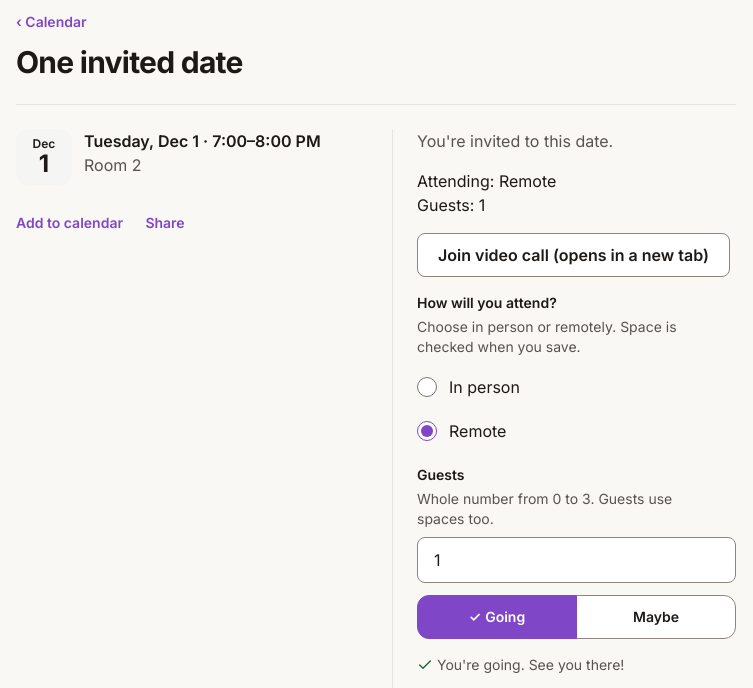
Scenario: saves only own scoped answer/mode/guest fields, preserves unsupported care by omission and reflects server waitlisting
Check: the heading "One invited date" is shown, box [16,44,243,80]
Check: the radio button labelled "Remote" is checked, box [417,421,437,441]
Click the radio button labelled "In person" at (427, 387), box [417,377,437,397]
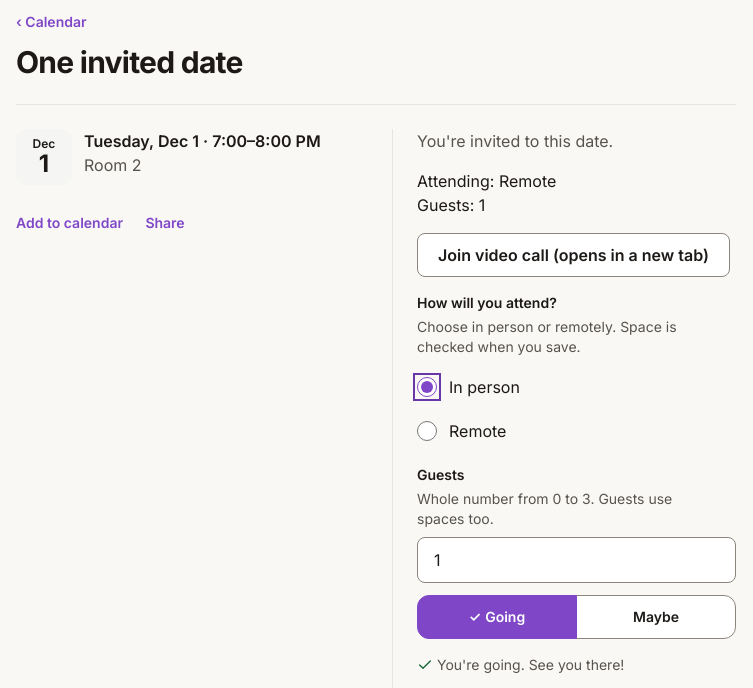
Replace the text in the number field labelled "Guests" with "2" at (576, 560), box [417,537,736,583]
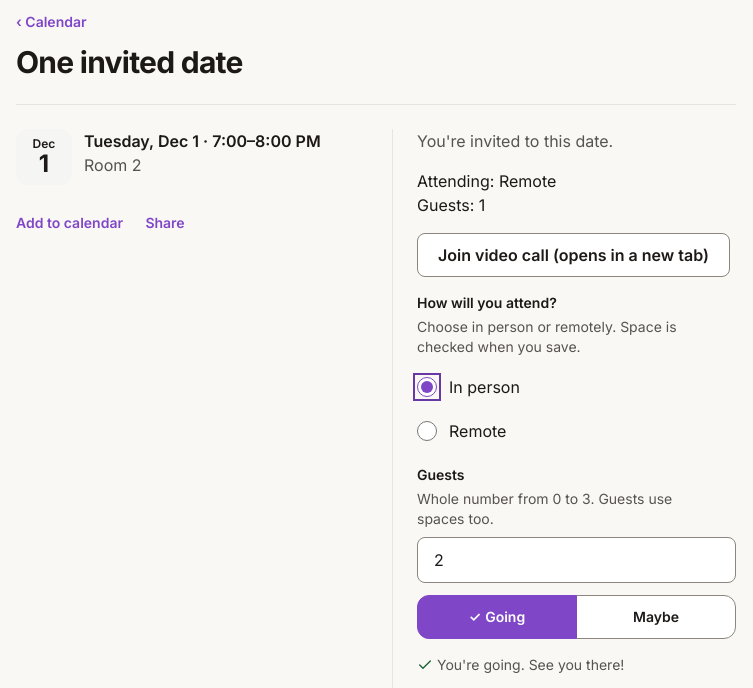
Click the button "Going" at (497, 617), box [417,595,577,639]
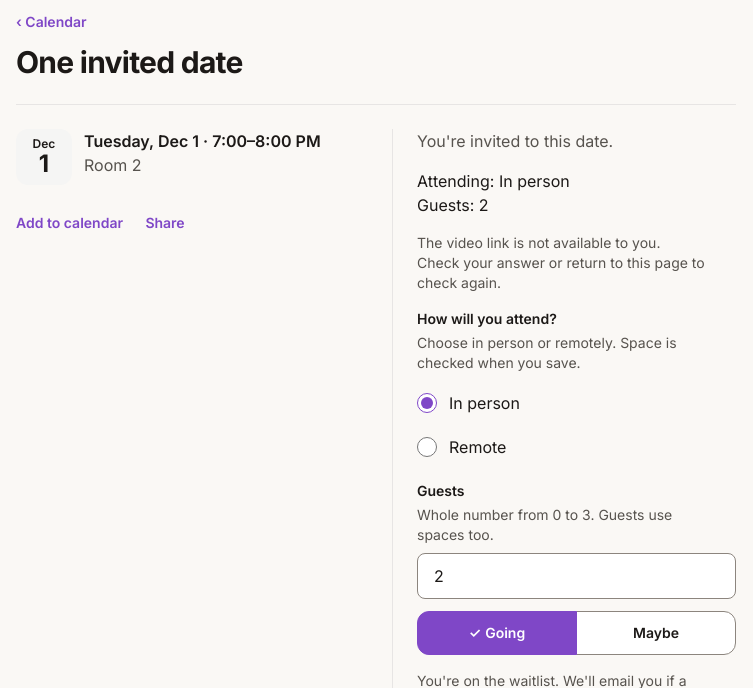
Check: the link "Join video call" is gone
Check: the number field labelled "Guests" holds "2", box [417,553,736,599]
